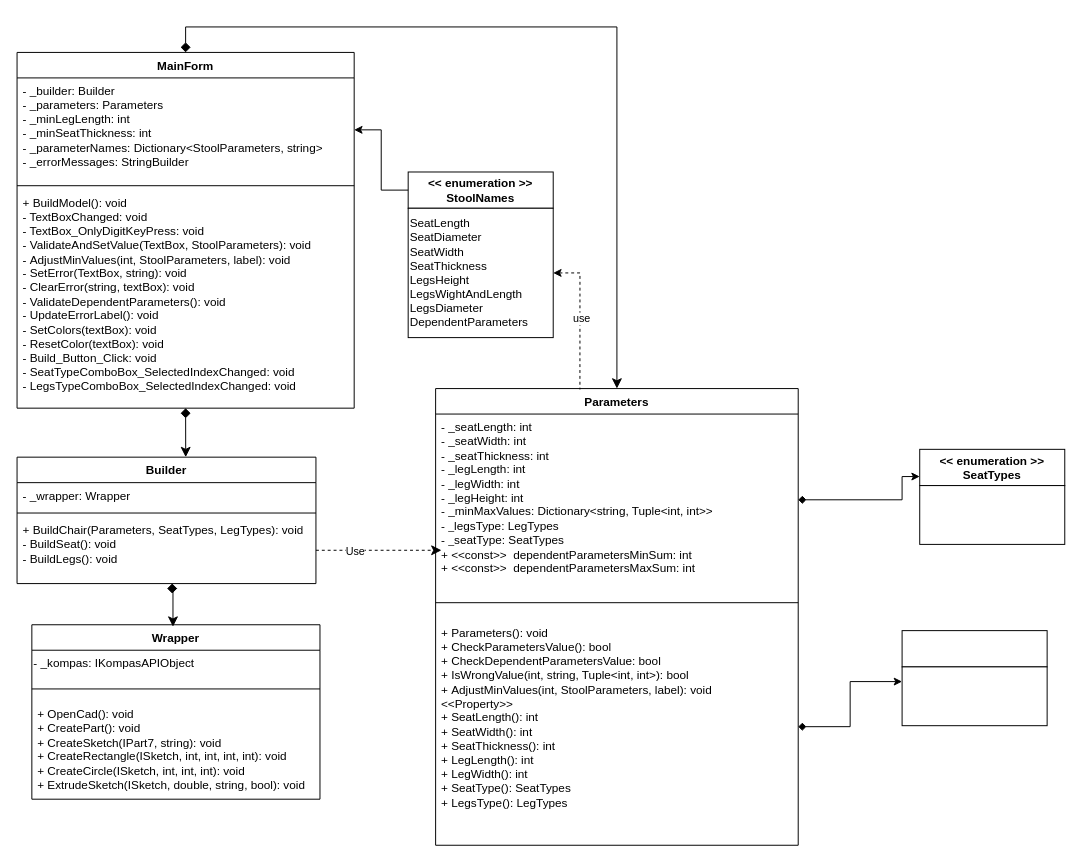
This 1083x865 diagram has some shape labels left out. Each missing label, with the box of its shape:
<< enumeration >> LegTypes: (901, 630, 1047, 667)
SquareLeg RoundLeg: (901, 666, 1047, 726)
SquareSeat RoundSeat: (919, 485, 1065, 544)
